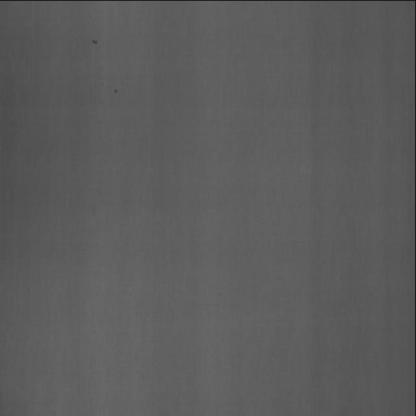inclusion: (109, 77, 123, 105), (90, 30, 104, 48)
